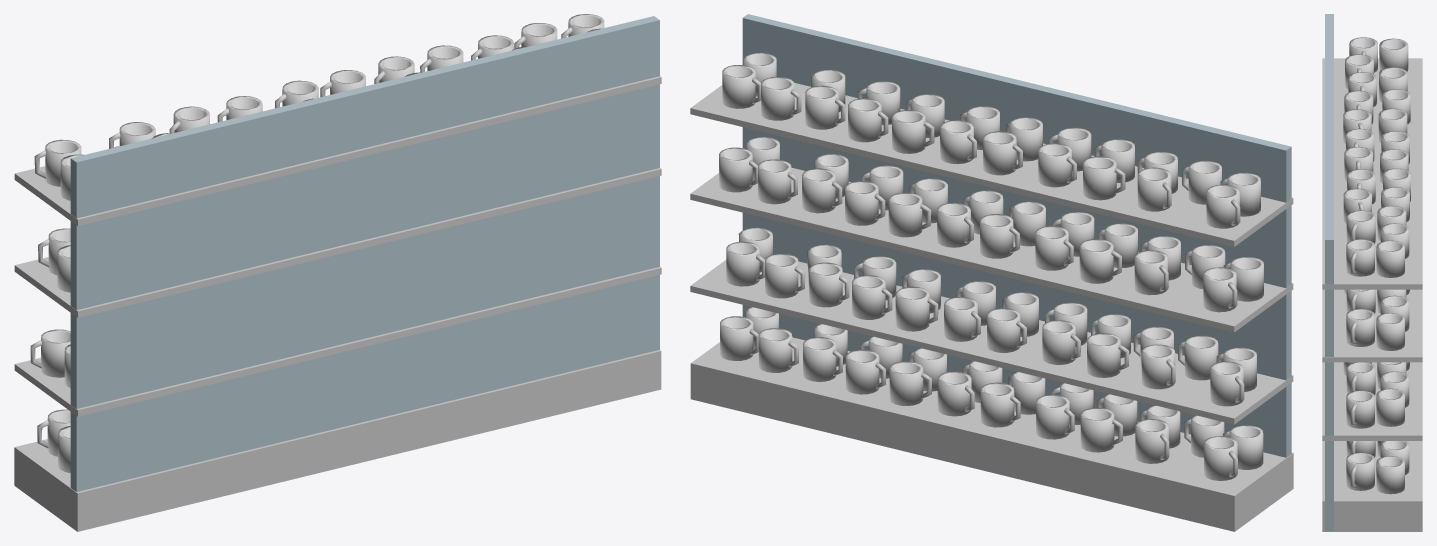
Rendered from reol22.gltf.
3 views of the same model, side by side, from view 1: azimuth 30°, elevation 25°; view 2: azimuth 150°, elevation 25°; view 3: azimuth 270°, elevation 25° (orthographic). The views are drawn at different scales.
Parts seen in each view (by area): view 1: Cube, Cube.004, Cube.002, Cube.001, Cube.003, Cylinder.111, Cylinder.155; view 2: Cube, Cube.004, Cube.003, Cube.002, Cube.001, Cylinder.123, Cylinder.140, Cylinder.104, Cylinder.148, Cylinder.096, Cylinder.100, Cylinder.095 (+76 smaller); view 3: Cube.001, Cube.004, Cube, Cube.003, Cube.002, Cylinder.131, Cylinder.088, Cylinder.132, Cylinder.175, Cylinder.064, Cylinder.067, Cylinder.023 (+29 smaller).
Part boxes in pixels (bbox=[...]): Cube: bbox=[70, 16, 659, 491]; Cube.004: bbox=[14, 350, 661, 531]; Cube.002: bbox=[14, 168, 661, 317]; Cube.001: bbox=[14, 76, 661, 225]; Cube.003: bbox=[14, 267, 661, 416]; Cylinder.111: bbox=[41, 329, 70, 377]; Cylinder.155: bbox=[45, 139, 81, 186]; Cube: bbox=[742, 14, 1291, 457]; Cube.004: bbox=[690, 337, 1293, 531]; Cube.003: bbox=[690, 260, 1293, 424]; Cube.002: bbox=[690, 167, 1293, 332]; Cube.001: bbox=[690, 83, 1293, 246]; Cylinder.123: bbox=[895, 286, 929, 331]; Cylinder.140: bbox=[888, 192, 922, 237]; Cylinder.104: bbox=[1080, 407, 1114, 452]; Cylinder.148: bbox=[1079, 239, 1113, 283]; Cylinder.096: bbox=[889, 361, 923, 405]; Cylinder.100: bbox=[980, 382, 1014, 427]; Cylinder.095: bbox=[845, 349, 879, 394]; Cube.001: bbox=[1322, 58, 1422, 289]; Cube.004: bbox=[1322, 441, 1422, 531]; Cube: bbox=[1325, 14, 1333, 530]; Cube.003: bbox=[1322, 362, 1422, 440]; Cube.002: bbox=[1322, 289, 1422, 362]; Cylinder.131: bbox=[1376, 388, 1404, 426]; Cylinder.088: bbox=[1376, 456, 1404, 494]; Cylinder.132: bbox=[1376, 313, 1404, 350]; Cylinder.175: bbox=[1376, 240, 1404, 277]; Cylinder.064: bbox=[1346, 390, 1374, 428]; Cylinder.067: bbox=[1346, 452, 1374, 490]; Cylinder.023: bbox=[1346, 309, 1374, 346].
Bounding box in the file's own units: 4.7 × 2.83 × 0.8805.
